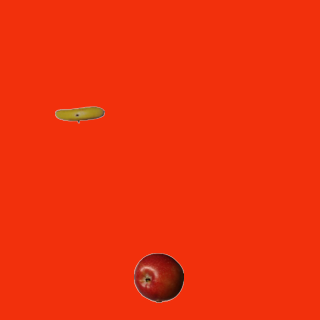Apple Braeburn: (133, 252, 183, 302)
Banana: (54, 89, 104, 139)
